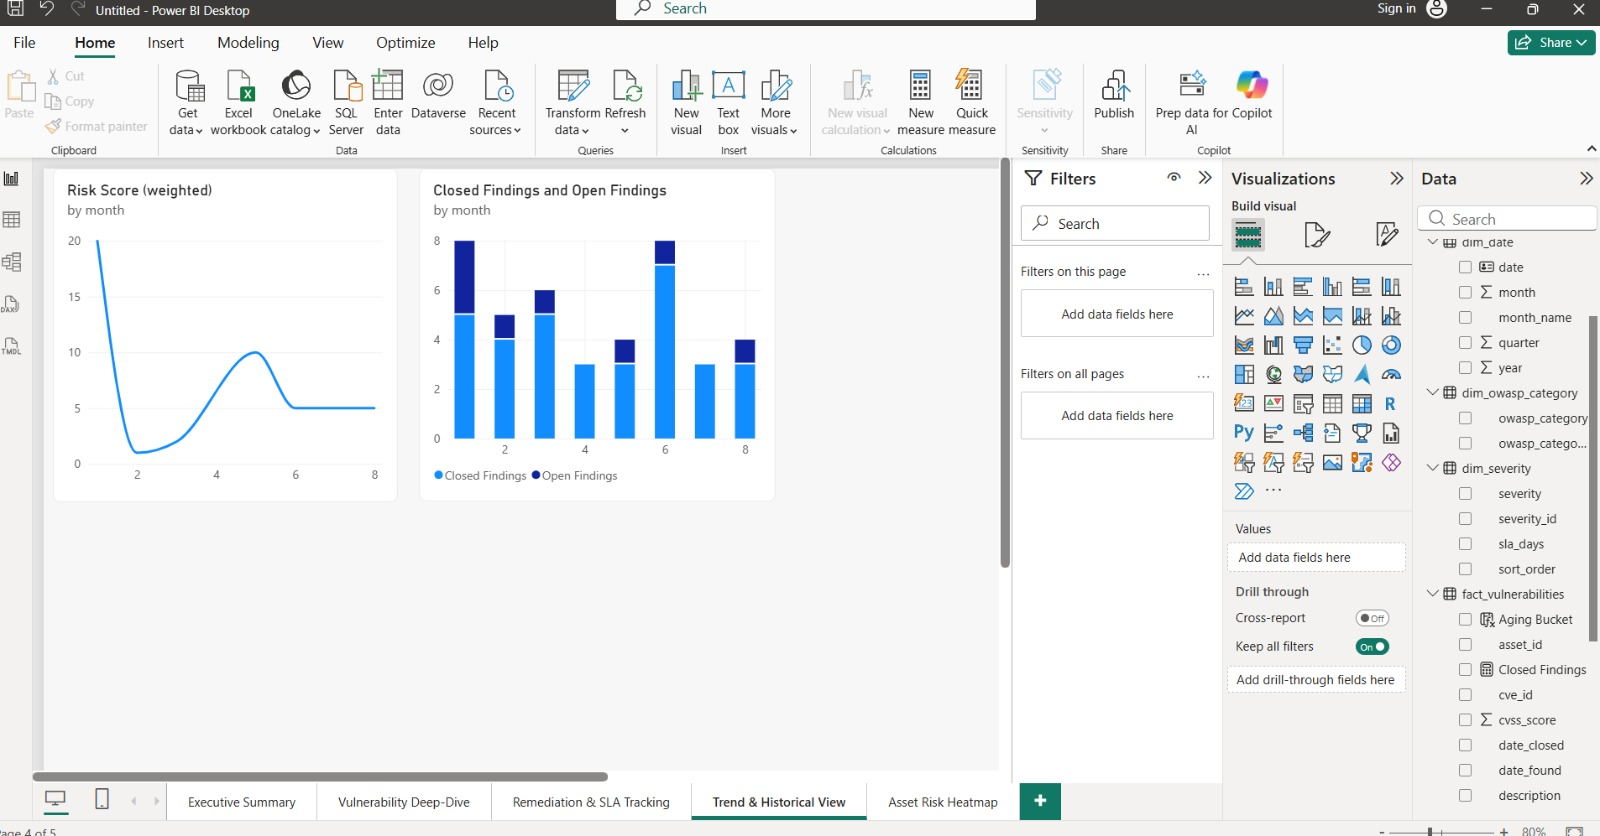

What the dashboard file says about the page in this screenshot:
{"tool":"powerbi","page":{"name":"Trend & Historical View","canvas":[1920,1080],"ordinal":3},"visuals":[{"type":"lineChart","fields":{"Category":["dim_date.month"],"Y":["fact_vulnerabilities.Risk Score (weighted)"]},"box":[11.2,0,410,397.5],"z":0},{"type":"lineStackedColumnComboChart","fields":{"Category":["dim_date.month"],"Y":["fact_vulnerabilities.Closed Findings","fact_vulnerabilities.Open Findings"]},"box":[447.1,0,424.3,397.1],"z":1}]}

Visuals, with their boxes on the page's 1920x1080 design canvas (x1, y1, x2, y2). These are canvas units, not pixel positions in the 1600x836 screenshot, which may show the page scaled, cropped or inside an application window:
lineChart - dim_date.month x fact_vulnerabilities.Risk Score (weighted): x1=11, y1=0, x2=421, y2=398
lineStackedColumnComboChart - dim_date.month x fact_vulnerabilities.Closed Findings: x1=447, y1=0, x2=871, y2=397
